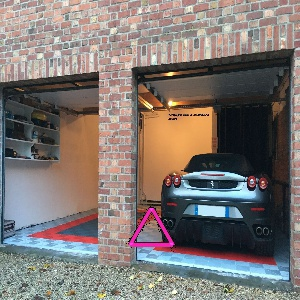triangle: (123, 205, 177, 250)
